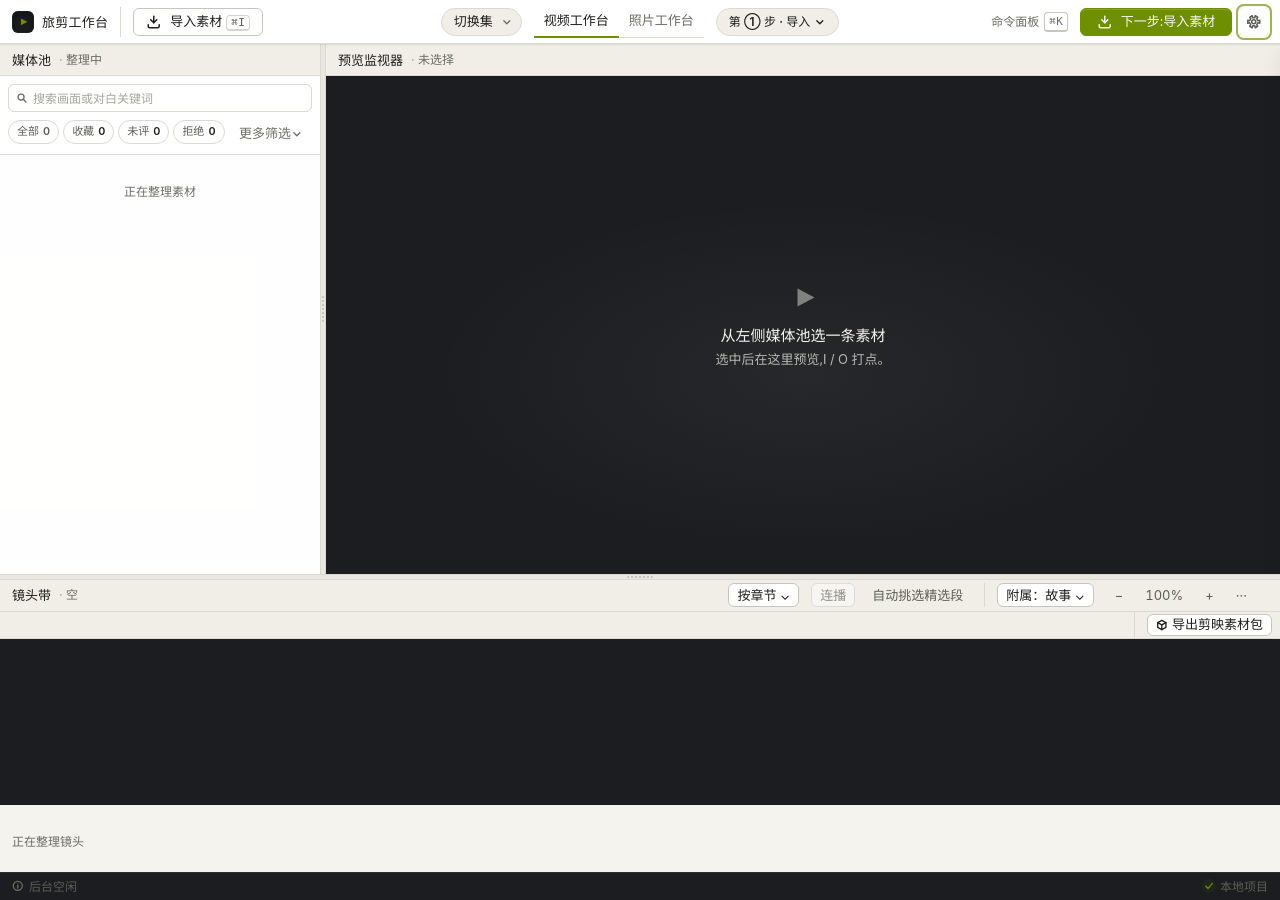
Test case: P2-8 / P2-12 播放与导出 › 记过导出文件夹才出「清除」,点了写 ui.export.last_dir = "";没记过不出
Click the button named "设置" at (1254, 22), box [1240,8,1268,36]
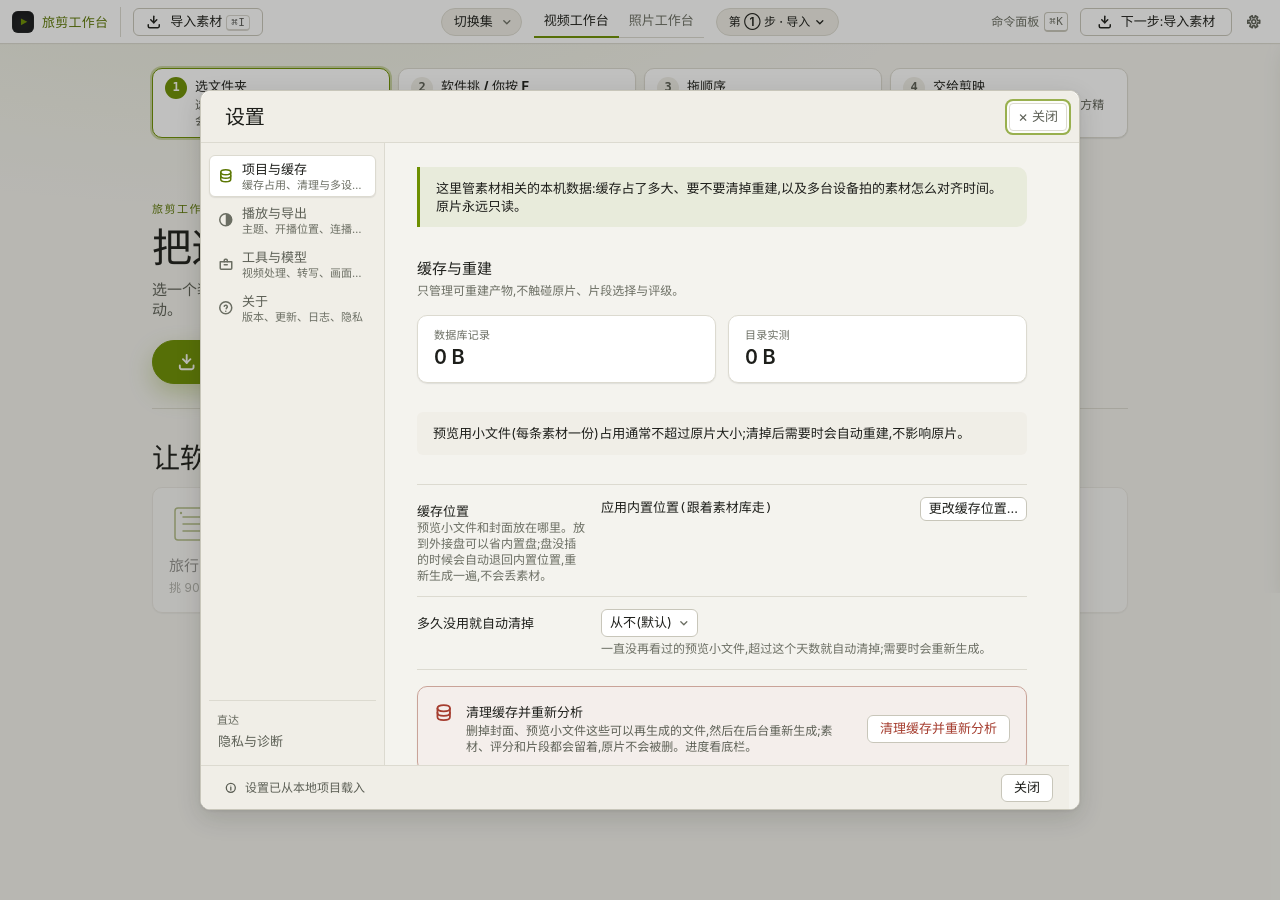
Expected: the message reads "设置已从本地项目载入", [245,780,365,794]
Click the tab "播放与导出 主题、开播位置、连播、导出文件夹" at (292, 220), box [209,199,376,241]
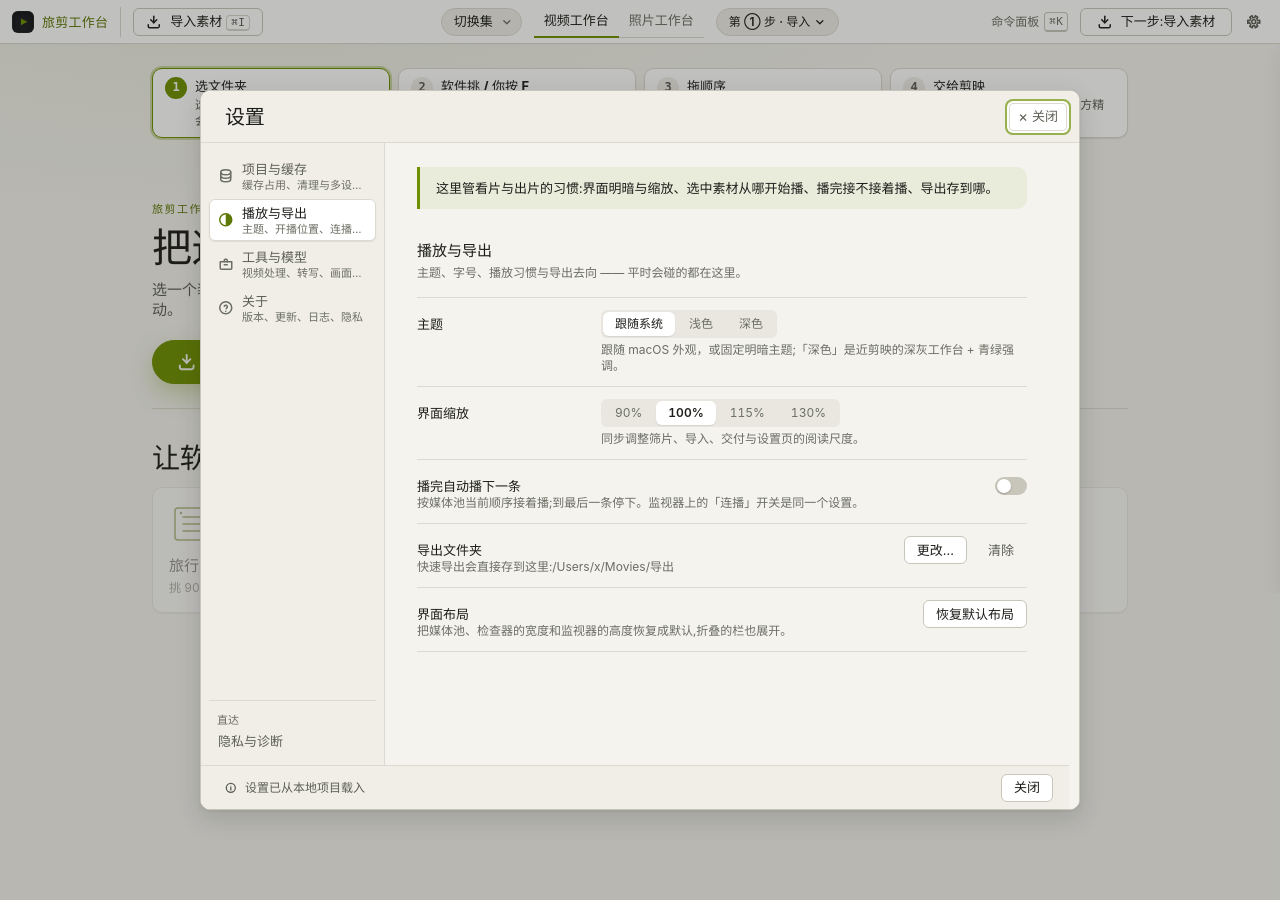
Expected: the button with aria-label "清除导出文件夹" reads "清除"
Click the button with aria-label "清除导出文件夹" at (1001, 550), box [975,536,1027,564]
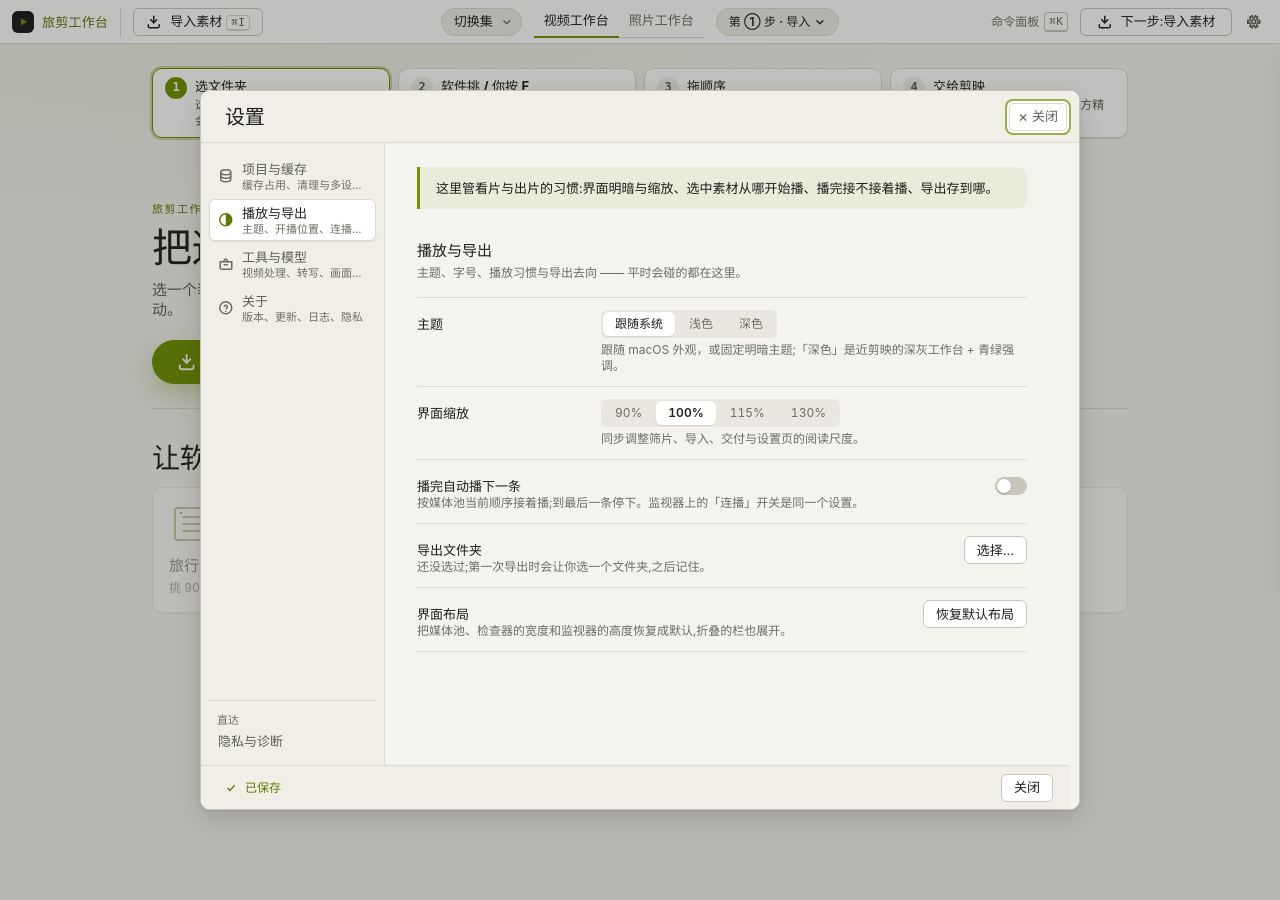
Expected: the button "清除导出文件夹" is gone
